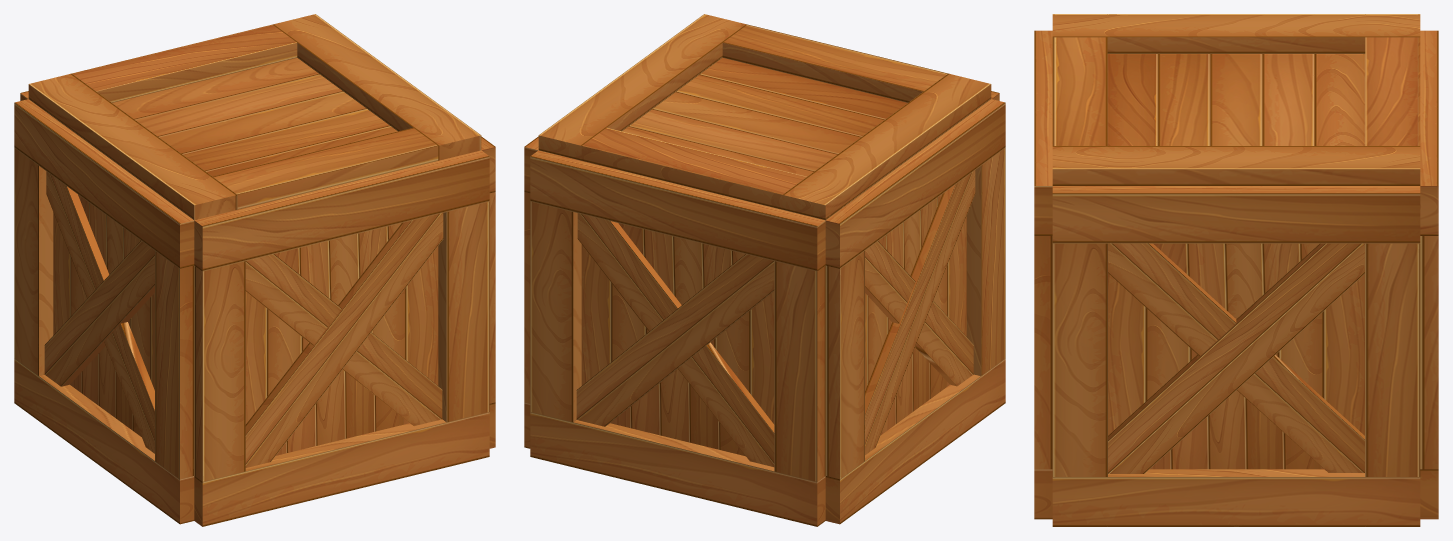
3 views of the same model, side by side, from view 1: azimuth 30°, elevation 25°; view 2: azimuth 150°, elevation 25°; view 3: azimuth 270°, elevation 25° (orthographic). The views are drawn at different scales.
Parts seen in each view (by area): view 1: Cube; view 2: Cube; view 3: Cube.
Part boxes in pixels (bbox=[...]): Cube: bbox=[14, 14, 495, 526]; Cube: bbox=[524, 14, 1005, 526]; Cube: bbox=[1034, 14, 1438, 526].
Bounding box in the file's own units: 220 × 210 × 220.
